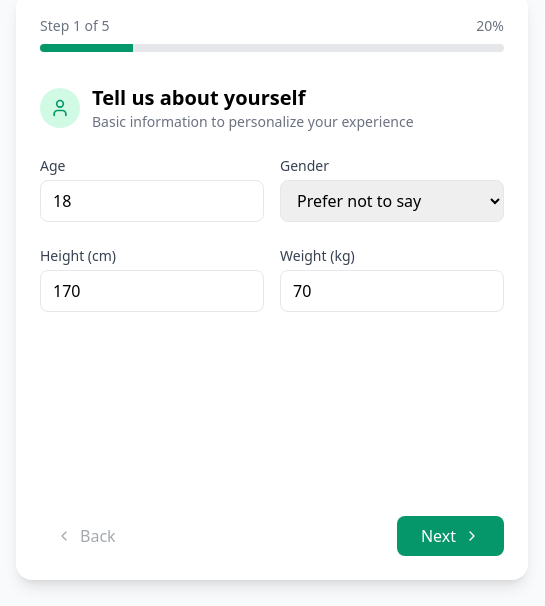
Test: Onboarding Component › should navigate back when Back is clicked
// Go to step 2
Click the button "Next" at (450, 536), box [397,516,504,556]
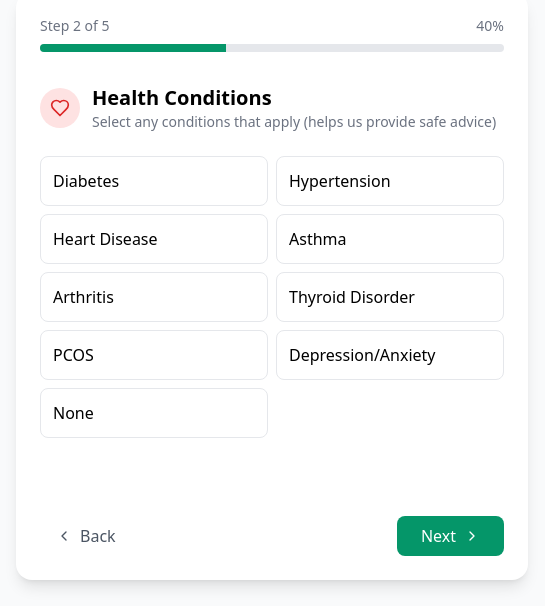
Expected: the text "Step 2 of 5" is shown, [40,16,110,36]
// Go back to step 1
Click the button "Back" at (86, 536), box [40,516,132,556]
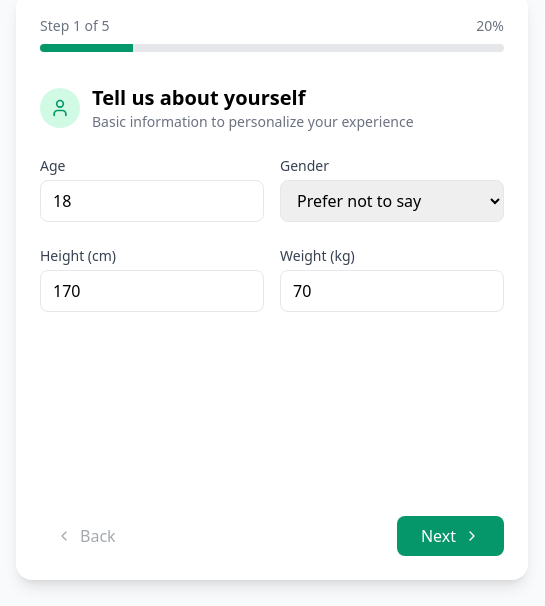
Expected: the text "Step 1 of 5" is shown, [40,16,110,36]
